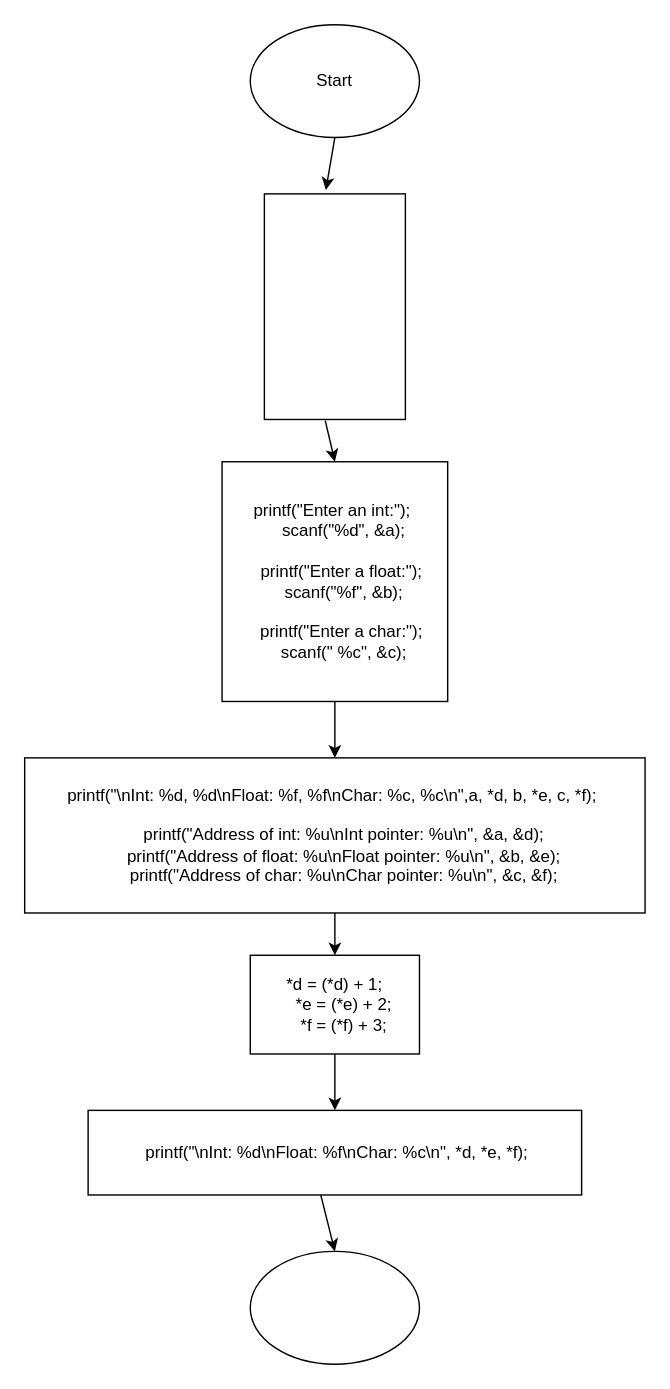
Image size: 670x1389. Some labels were removed from this diagram. The box of each missing label's shape, as (x1, y1, x2, y2) in pixels:
End: (249, 1250, 419, 1364)
int a; float b; char c; int *d = &a; float *e = &b; char *f = &c;: (263, 192, 405, 419)
